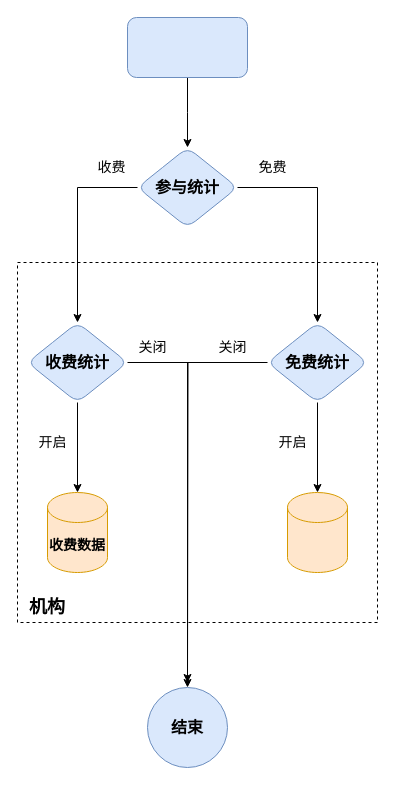
This 395x785 diagram has some shape labels left out. Each missing label, with the box of its shape:
免费数据: (286, 492, 348, 572)
监管账号: (126, 16, 248, 78)
